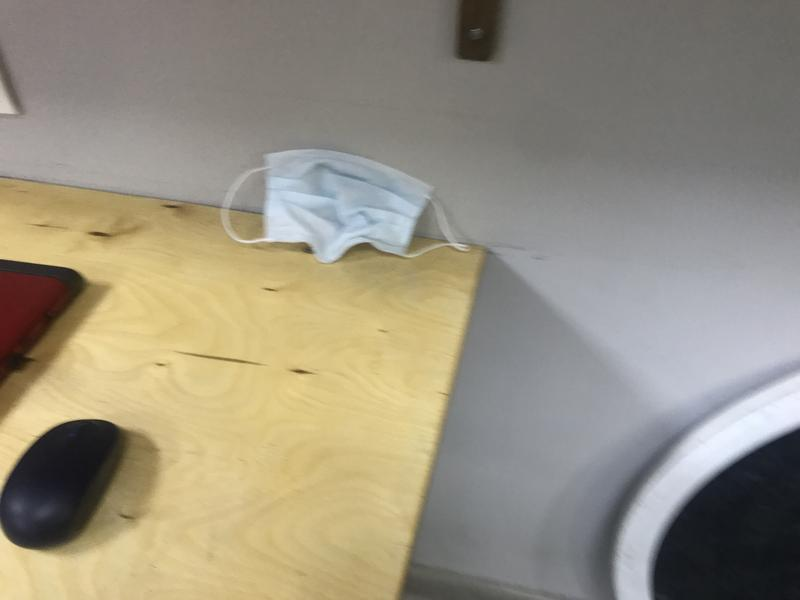medical_mask: (222, 150, 470, 263)
